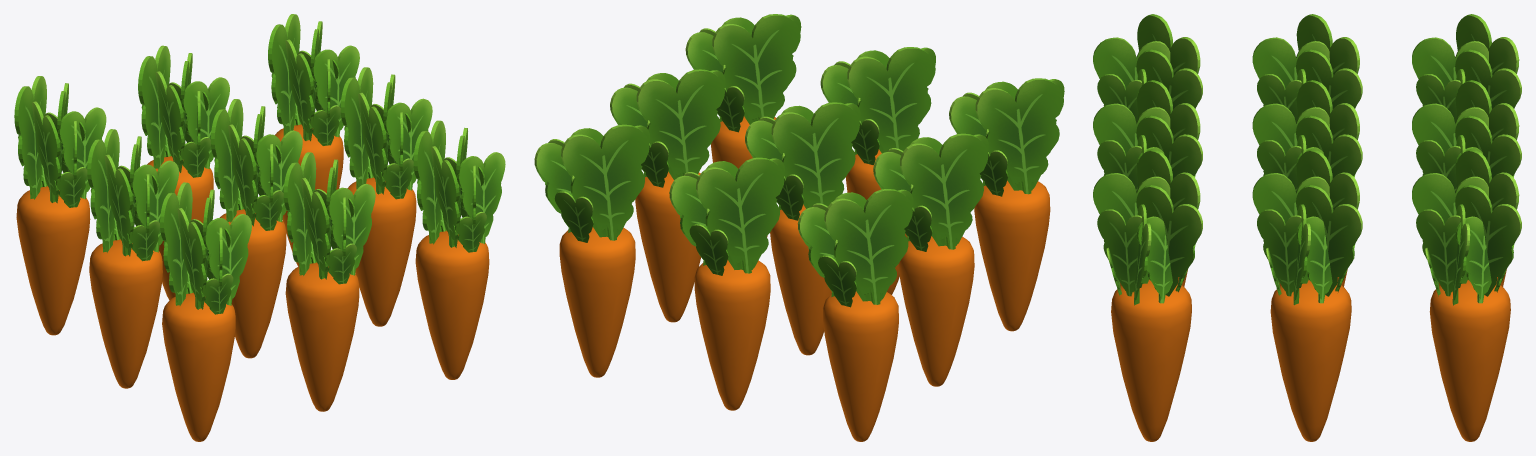
The model's file is Carrot FieldLP.fbx.
3 views of the same model, side by side, from view 1: azimuth 30°, elevation 25°; view 2: azimuth 150°, elevation 25°; view 3: azimuth 270°, elevation 25° (orthographic). The views are drawn at different scales.
Visible parts, largest first — view 1: Untitled_Artwork 18.003, Untitled_Artwork 18.007, Untitled_Artwork 18.006, Untitled_Artwork 18.001, Untitled_Artwork 18.002, Untitled_Artwork 18.008, Untitled_Artwork 18.004, Untitled_Artwork 18.009, Untitled_Artwork 18.005; view 2: Untitled_Artwork 18.009, Untitled_Artwork 18.005, Untitled_Artwork 18.002, Untitled_Artwork 18.007, Untitled_Artwork 18.001, Untitled_Artwork 18.008, Untitled_Artwork 18.004, Untitled_Artwork 18.006, Untitled_Artwork 18.003; view 3: Untitled_Artwork 18.008, Untitled_Artwork 18.009, Untitled_Artwork 18.006, Untitled_Artwork 18.004, Untitled_Artwork 18.003, Untitled_Artwork 18.005, Untitled_Artwork 18.007, Untitled_Artwork 18.001, Untitled_Artwork 18.002.
Part boxes in pixels (box(x1,y1,x2,y2)): Untitled_Artwork 18.003: box(283, 152, 375, 411); Untitled_Artwork 18.007: box(160, 182, 251, 441); Untitled_Artwork 18.006: box(413, 120, 505, 379); Untitled_Artwork 18.001: box(87, 129, 178, 388); Untitled_Artwork 18.002: box(14, 76, 106, 335); Untitled_Artwork 18.008: box(340, 67, 432, 326); Untitled_Artwork 18.004: box(210, 99, 302, 358); Untitled_Artwork 18.009: box(268, 14, 359, 266); Untitled_Artwork 18.005: box(138, 45, 229, 300); Untitled_Artwork 18.009: box(534, 124, 649, 377); Untitled_Artwork 18.005: box(669, 157, 784, 410); Untitled_Artwork 18.002: box(797, 189, 913, 441); Untitled_Artwork 18.007: box(949, 78, 1064, 331); Untitled_Artwork 18.001: box(873, 133, 988, 386); Untitled_Artwork 18.008: box(610, 69, 725, 322); Untitled_Artwork 18.004: box(745, 102, 860, 355); Untitled_Artwork 18.006: box(685, 14, 801, 236); Untitled_Artwork 18.003: box(820, 47, 935, 294); Untitled_Artwork 18.008: box(1252, 149, 1362, 441); Untitled_Artwork 18.009: box(1412, 149, 1521, 441); Untitled_Artwork 18.006: box(1093, 149, 1202, 441); Untitled_Artwork 18.004: box(1252, 80, 1362, 286); Untitled_Artwork 18.003: box(1093, 80, 1202, 286); Untitled_Artwork 18.005: box(1412, 80, 1521, 286); Untitled_Artwork 18.007: box(1093, 14, 1202, 122); Untitled_Artwork 18.001: box(1252, 14, 1362, 122); Untitled_Artwork 18.002: box(1412, 14, 1521, 122).
Size of the model in its own units: 415 by 284 by 403.
